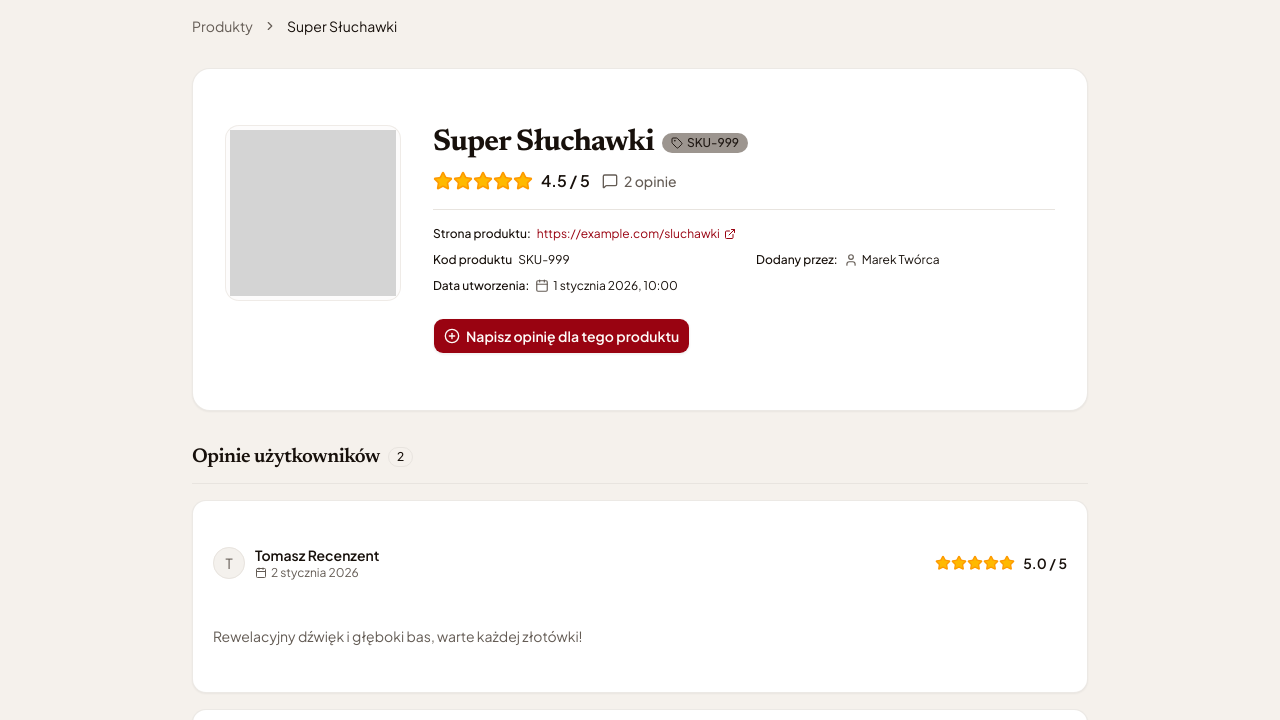
Test: app/produkty/[id]/_components/ProductDetails › reserves space for validation messages and reveals them on empty submit
The width and height of the screenshot is (1280, 720).
Click the button "Napisz opinię dla tego produktu" at (562, 336), box [433,318,690,354]
(page scrolled)
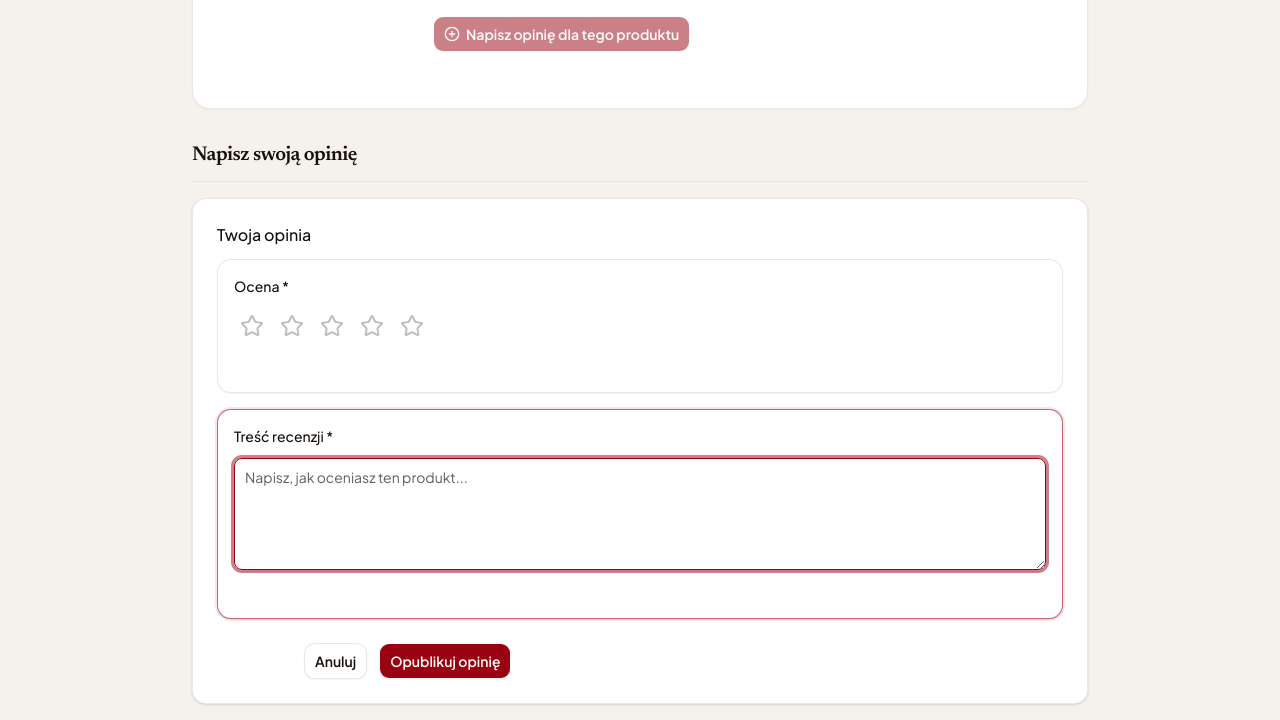
Click the button "Opublikuj opinię" at (445, 661), box [379,643,512,679]
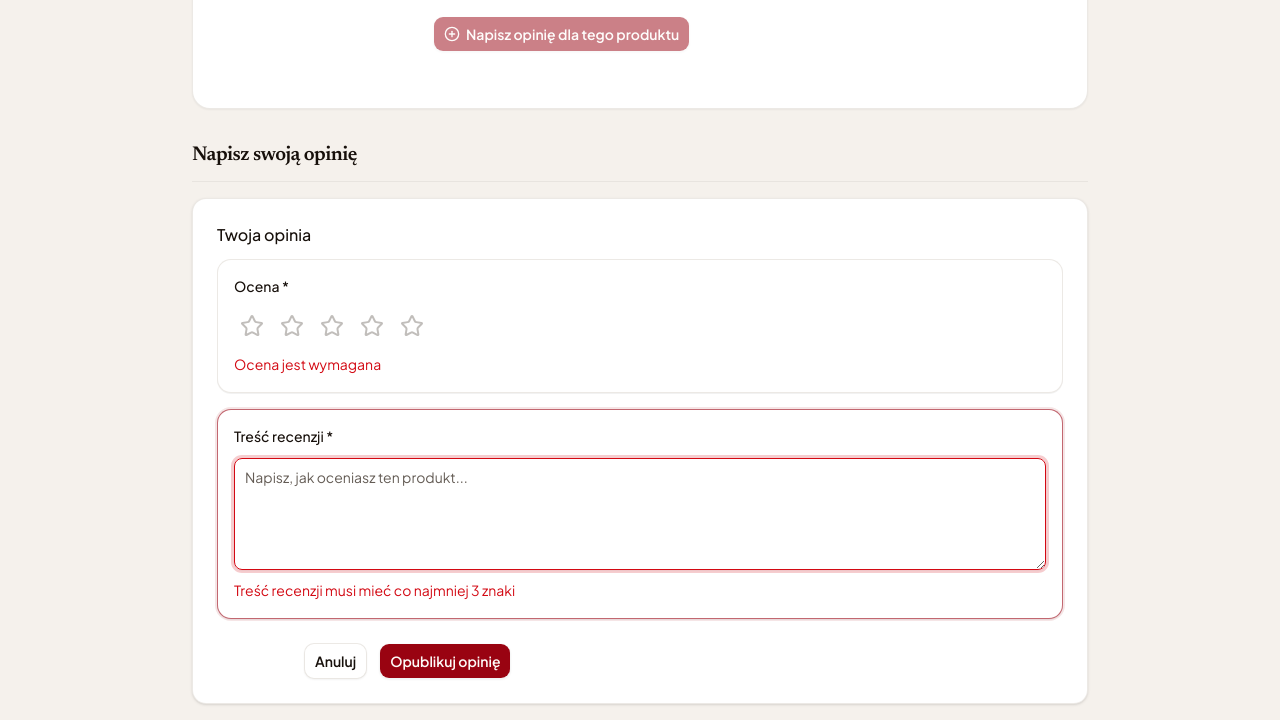
expect the text "Ocena jest wymagana" is shown: met, box [234,355,381,373]
expect the text "Treść recenzji musi mieć co najmniej 3 znaki" is shown: met, box [234,581,515,599]
